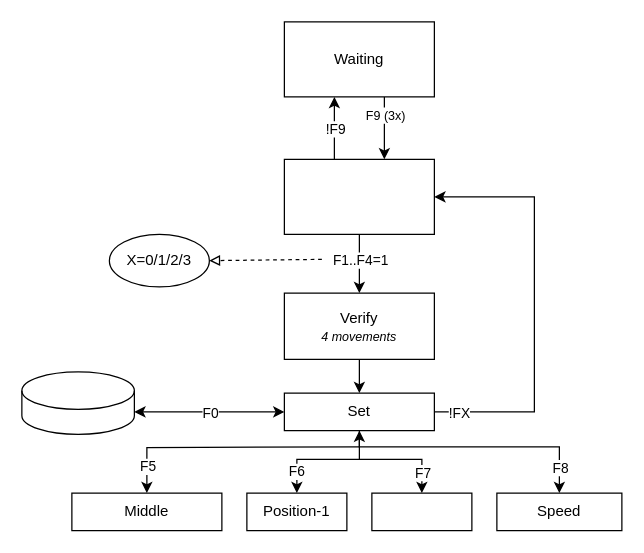
This 644x553 diagram has some shape labels left out. Each missing label, with the centre of its shape:
"Position-2" goes at pixel 421 511.
"Ready" goes at pixel 358 196.
"Save" goes at pixel 77 402.
